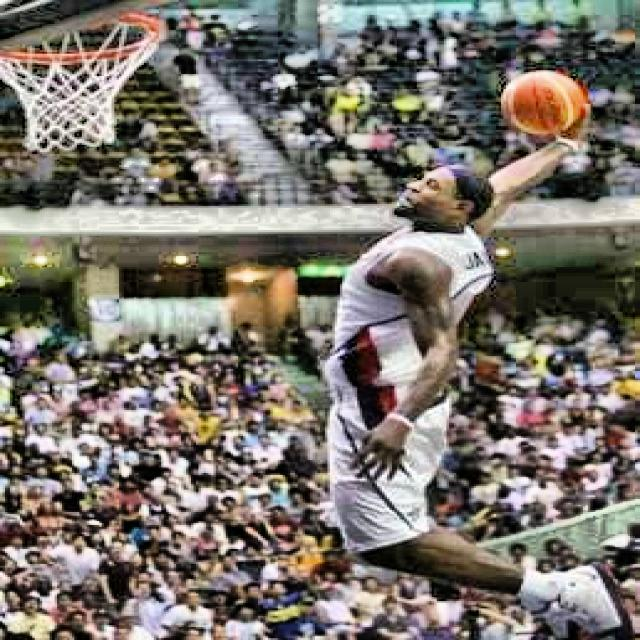board: (500, 72, 587, 136)
rim: (0, 14, 166, 146)
